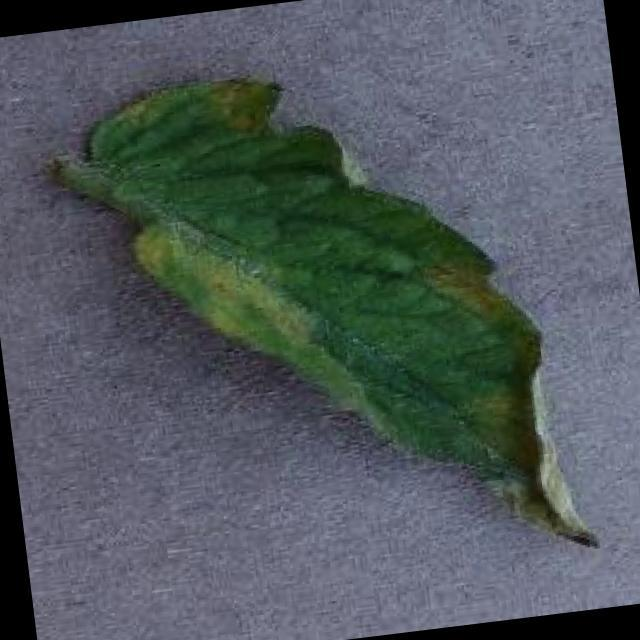Tomato mold leaf: (84, 34, 602, 604)
